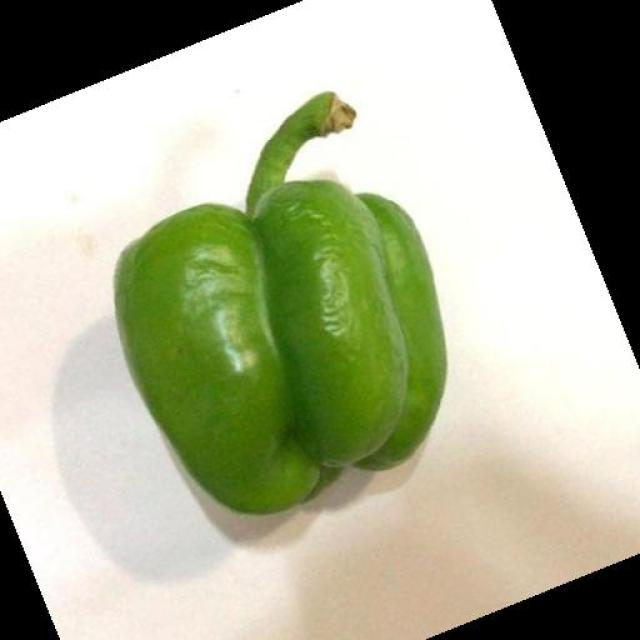Fresh_Capsicum: (130, 86, 488, 494)
